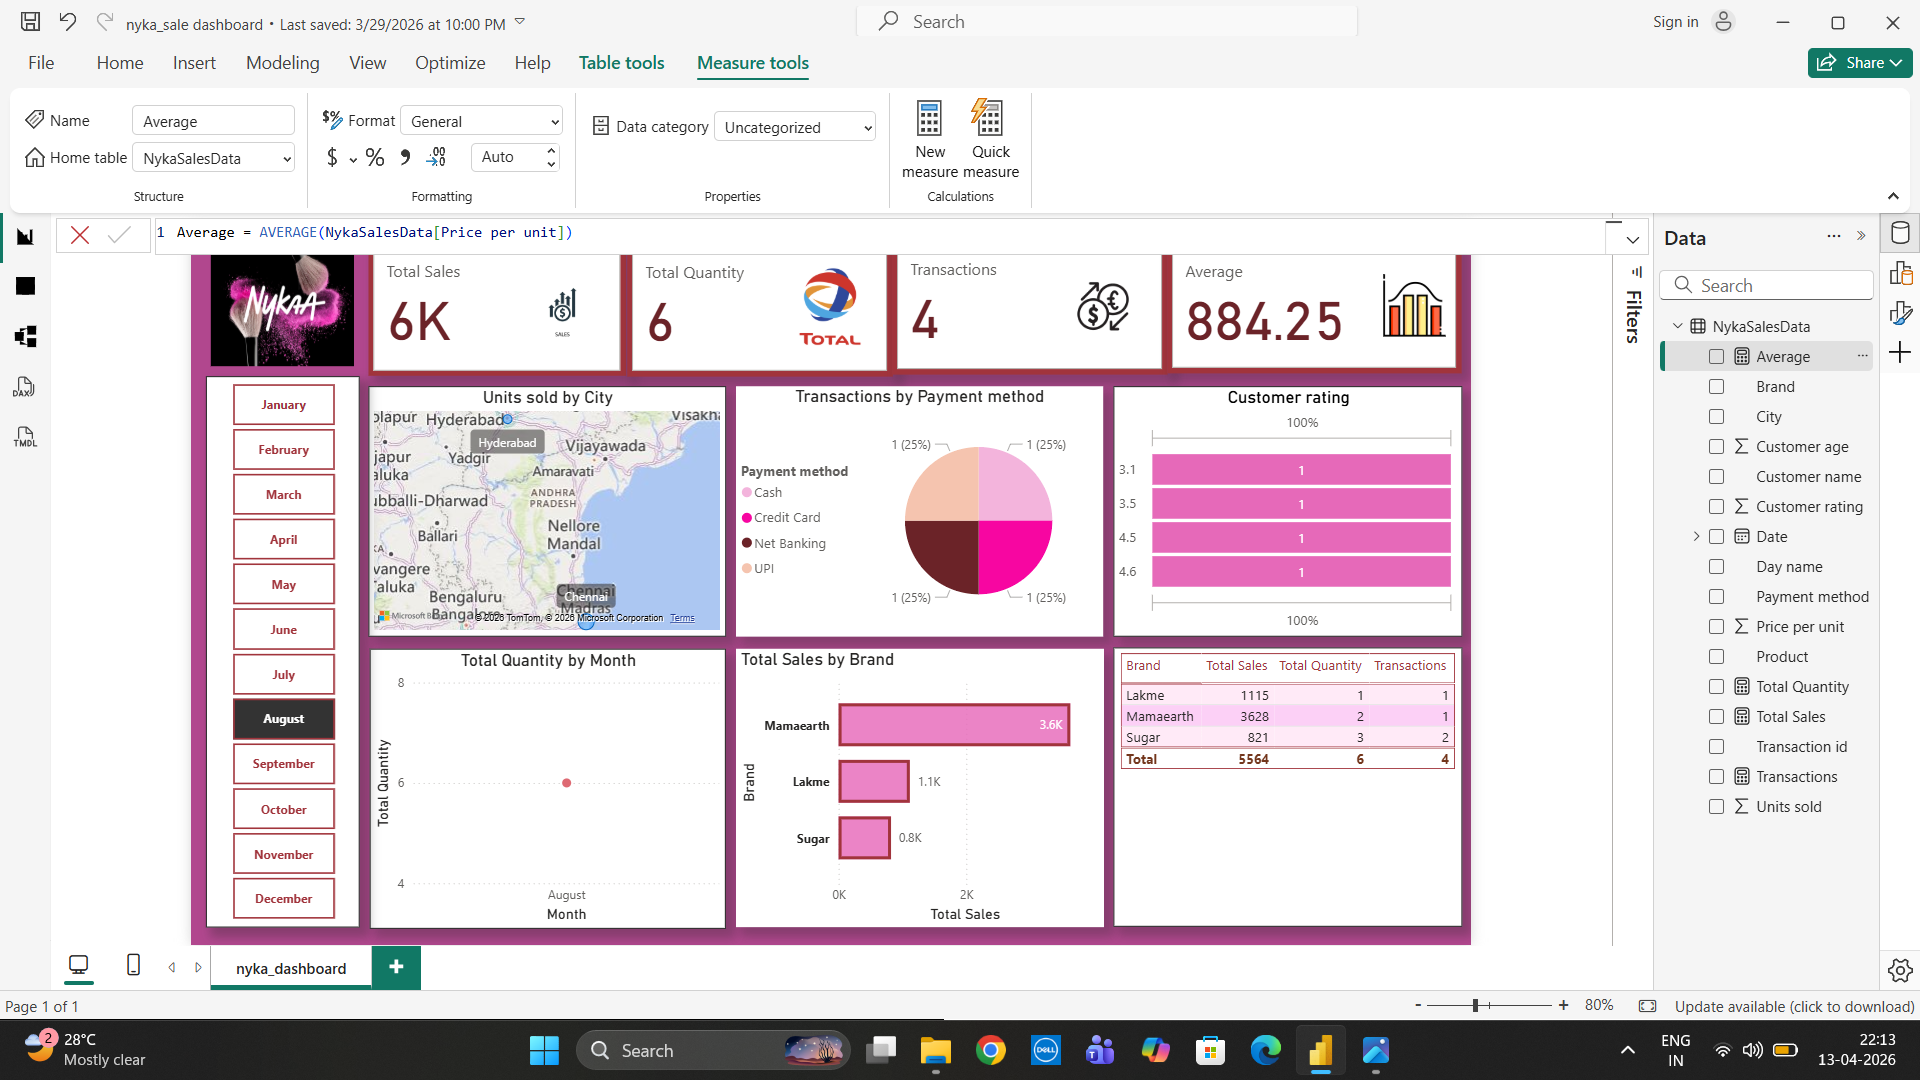

Layout of this report page (visuals, bound fields, positions):
{"tool":"powerbi","page":{"name":"nyka_dashboard","canvas":[1280,720],"ordinal":0},"visuals":[{"type":"cardVisual","fields":{"Data":["NykaSalesData.Total Sales"]},"box":[177.9,9.8,257.7,141.1],"z":3000},{"type":"cardVisual","fields":{"Data":["NykaSalesData.Total Quantity"]},"box":[435.7,10.1,265.5,141.4],"z":4000},{"type":"cardVisual","fields":{"Data":["NykaSalesData.Transactions"]},"box":[701.2,11.5,275.6,138.5],"z":5000},{"type":"cardVisual","fields":{"Data":["NykaSalesData.Average"]},"box":[976.7,10.1,294.3,138.5],"z":6000},{"type":"map","title":"Units sold by City","fields":{"Category":["NykaSalesData.City"],"Size":["NykaSalesData.Total Sales"]},"box":[177.5,161.2,357.5,250],"z":6001},{"type":"lineChart","fields":{"Category":["NykaSalesData.Date.Variation.Date Hierarchy.Month"],"Y":["NykaSalesData.Total Quantity"]},"box":[179.1,423.3,355.8,279.8],"z":6002},{"type":"pieChart","fields":{"Category":["NykaSalesData.Payment method"],"Y":["NykaSalesData.Transactions"]},"box":[545,161.2,367.5,250],"z":6003},{"type":"funnel","title":"Customer rating","fields":{"Category":["NykaSalesData.Customer rating"],"Y":["CountNonNull(NykaSalesData.Customer rating)"]},"box":[922.5,161.2,348.8,250],"z":6004},{"type":"barChart","fields":{"Category":["NykaSalesData.Brand"],"Y":["NykaSalesData.Total Sales"]},"box":[544.8,423.3,368.1,278.5],"z":6005},{"type":"tableEx","fields":{"Values":["NykaSalesData.Brand","NykaSalesData.Total Sales","NykaSalesData.Total Quantity","NykaSalesData.Transactions"]},"box":[923,423,349,279],"z":6006},{"type":"slicer","fields":{"Values":["NykaSalesData.Date.Variation.Date Hierarchy.Month"]},"box":[14.7,150.9,153.4,550.9],"z":6007},{"type":"image","box":[14.7,9.8,153.4,136.2],"z":6008}]}

Visuals, with their boxes on the page's 1280x720 design canvas (x1, y1, x2, y2). These are canvas units, not pixel positions in the 1920x1080 screenshot, which may show the page scaled, cropped or inside an application window:
cardVisual - NykaSalesData.Total Sales: {"x1": 178, "y1": 10, "x2": 436, "y2": 151}
cardVisual - NykaSalesData.Total Quantity: {"x1": 436, "y1": 10, "x2": 701, "y2": 152}
cardVisual - NykaSalesData.Transactions: {"x1": 701, "y1": 12, "x2": 977, "y2": 150}
cardVisual - NykaSalesData.Average: {"x1": 977, "y1": 10, "x2": 1271, "y2": 149}
"Units sold by City" map: {"x1": 178, "y1": 161, "x2": 535, "y2": 411}
lineChart - NykaSalesData.Date.Variation.Date Hierarchy.Month x NykaSalesData.Total Quantity: {"x1": 179, "y1": 423, "x2": 535, "y2": 703}
pieChart - NykaSalesData.Payment method x NykaSalesData.Transactions: {"x1": 545, "y1": 161, "x2": 912, "y2": 411}
"Customer rating" funnel: {"x1": 922, "y1": 161, "x2": 1271, "y2": 411}
barChart - NykaSalesData.Brand x NykaSalesData.Total Sales: {"x1": 545, "y1": 423, "x2": 913, "y2": 702}
tableEx - NykaSalesData.Brand x NykaSalesData.Total Sales: {"x1": 923, "y1": 423, "x2": 1272, "y2": 702}
slicer - NykaSalesData.Date.Variation.Date Hierarchy.Month: {"x1": 15, "y1": 151, "x2": 168, "y2": 702}
image: {"x1": 15, "y1": 10, "x2": 168, "y2": 146}
